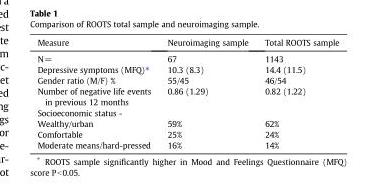table: (36, 36, 338, 149)
table column: (36, 36, 158, 149), (158, 36, 255, 149), (255, 36, 338, 149)
table column header: (36, 36, 338, 50)
table projected row header: (36, 106, 338, 117)
table row: (36, 85, 338, 106), (36, 36, 338, 50), (36, 50, 338, 63), (36, 63, 338, 74), (36, 74, 338, 85), (36, 106, 338, 117), (36, 117, 338, 128), (36, 128, 338, 139), (36, 139, 338, 149)
